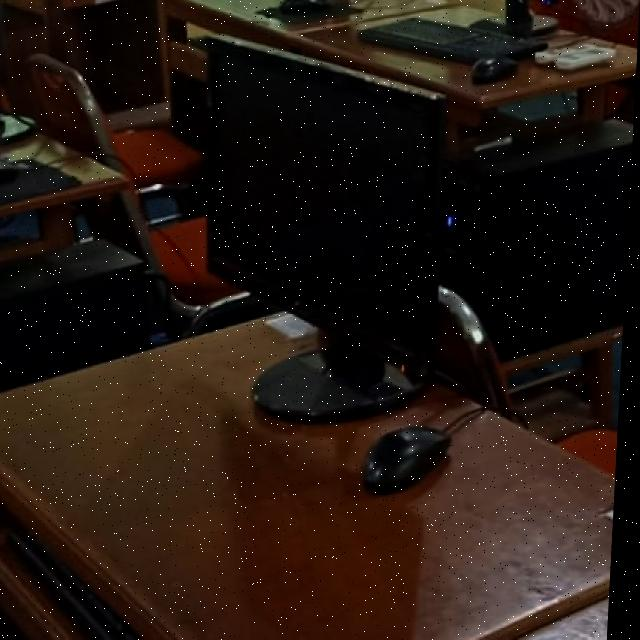offscreen: (212, 36, 446, 362)
